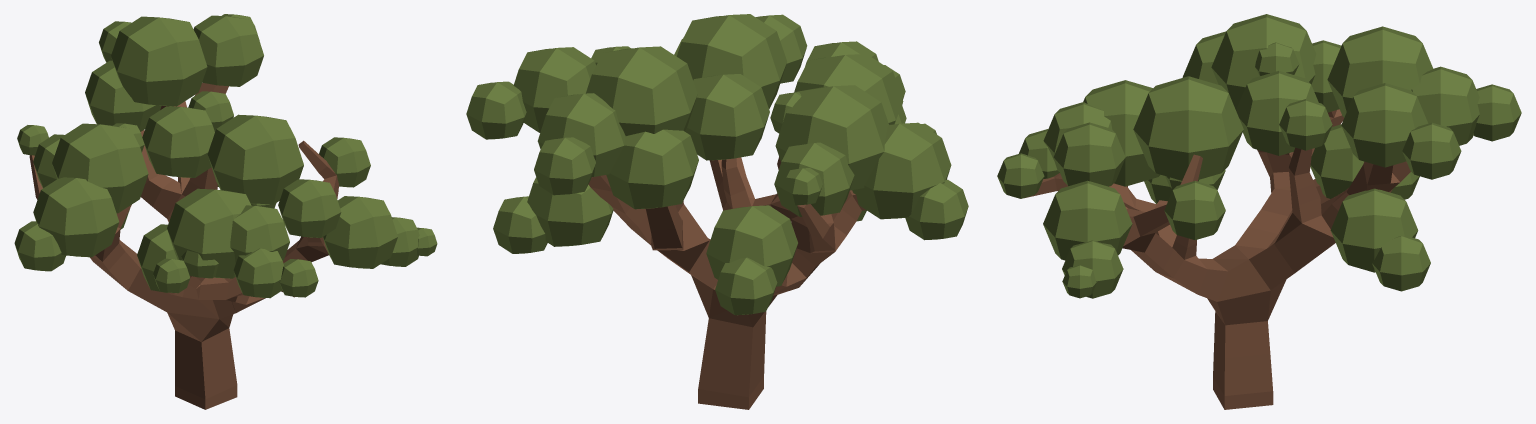
File: Trees1.fbx
3 renders of one model, left to right at view 1: azimuth 30°, elevation 25°; view 2: azimuth 150°, elevation 25°; view 3: azimuth 270°, elevation 25°, orthographic. The views are drawn at different scales.
Parts seen in each view (by area): view 1: Leaves.001, Tree.001; view 2: Leaves.001, Tree.001; view 3: Leaves.001, Tree.001.
Boxes of the visible parts, x1,y1,x2,y2 form: Leaves.001: [14, 14, 437, 298]; Tree.001: [29, 83, 338, 409]; Leaves.001: [466, 14, 968, 315]; Tree.001: [588, 157, 865, 409]; Leaves.001: [997, 14, 1521, 298]; Tree.001: [1024, 109, 1410, 409].
Size of the model in its own units: 457 by 414 by 525.
